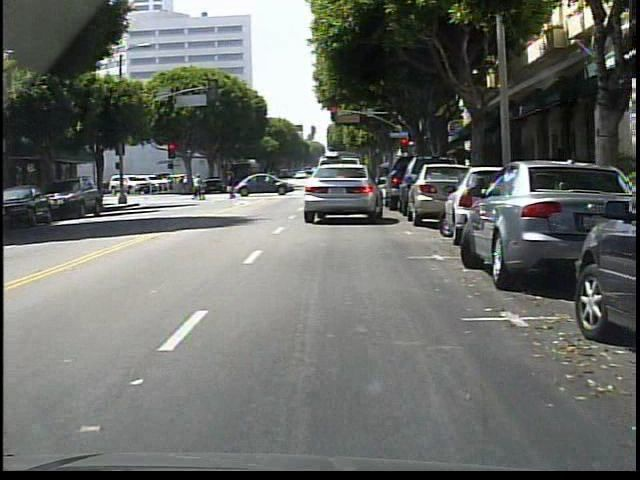person: (226, 172, 239, 201), (194, 174, 207, 200), (268, 172, 275, 191)
